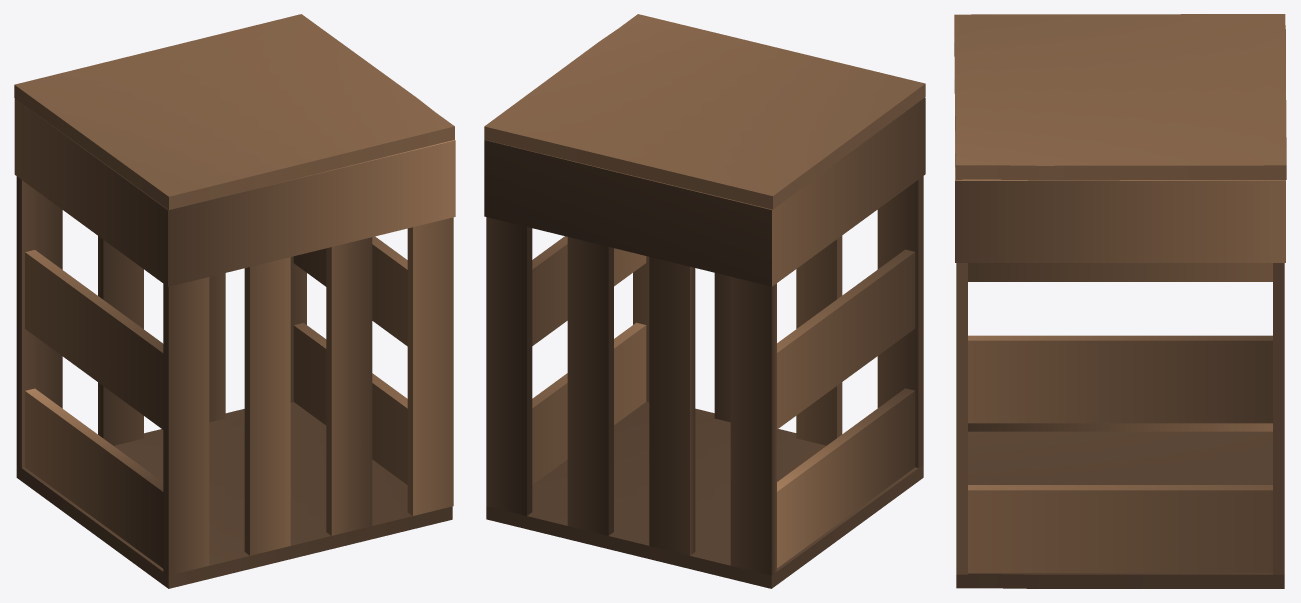
Rendered from Tall Mid Crate Closed Lid.fbx.
3 views of the same model, side by side, from view 1: azimuth 30°, elevation 25°; view 2: azimuth 150°, elevation 25°; view 3: azimuth 270°, elevation 25° (orthographic). The views are drawn at different scales.
Parts seen in each view (by area): view 1: Tall Mid Crate Closed Lid; view 2: Tall Mid Crate Closed Lid; view 3: Tall Mid Crate Closed Lid.
Part boxes in pixels (left/top/right/bottom): Tall Mid Crate Closed Lid: left=14, top=14, right=455, bottom=588; Tall Mid Crate Closed Lid: left=484, top=14, right=925, bottom=588; Tall Mid Crate Closed Lid: left=954, top=14, right=1286, bottom=588.
Bounding box in the file's own units: 295 × 209 × 226.
1 material, 1 textured.
